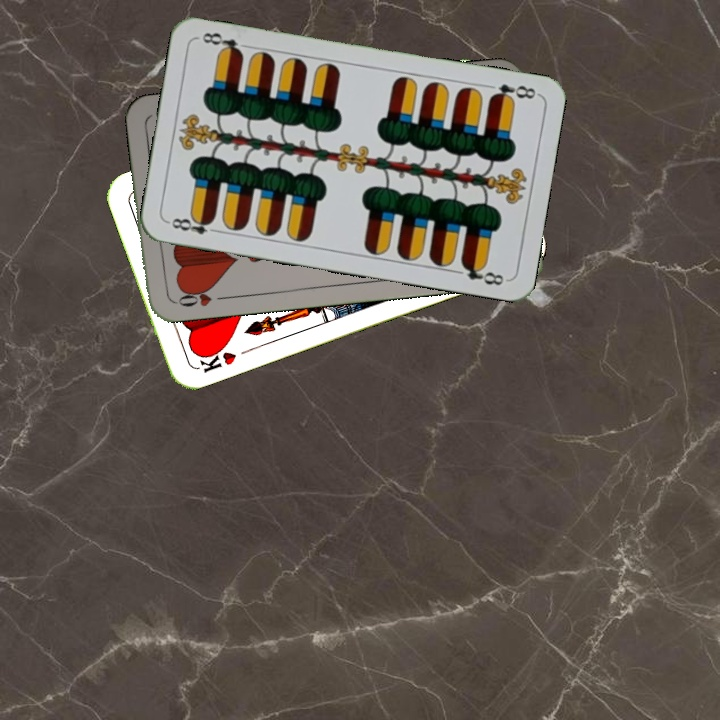E8: (164, 212, 223, 237), (481, 80, 540, 105)
HK: (193, 341, 239, 376)
HO: (169, 282, 229, 310)
